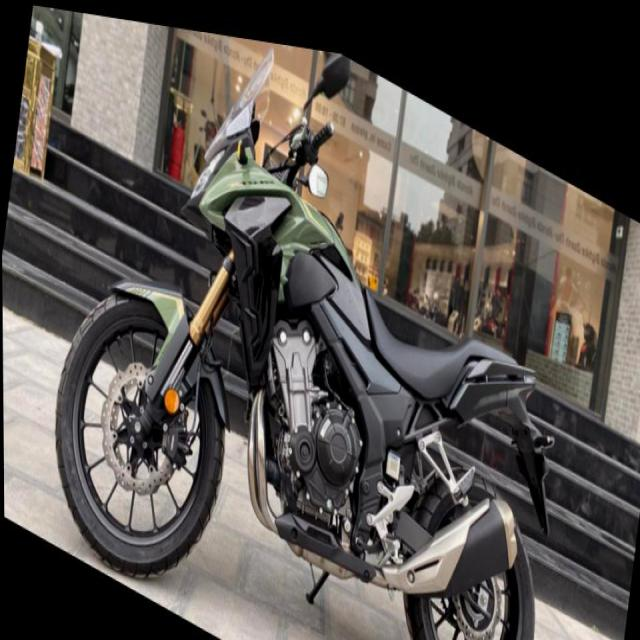CB500X: (36, 3, 589, 639)
